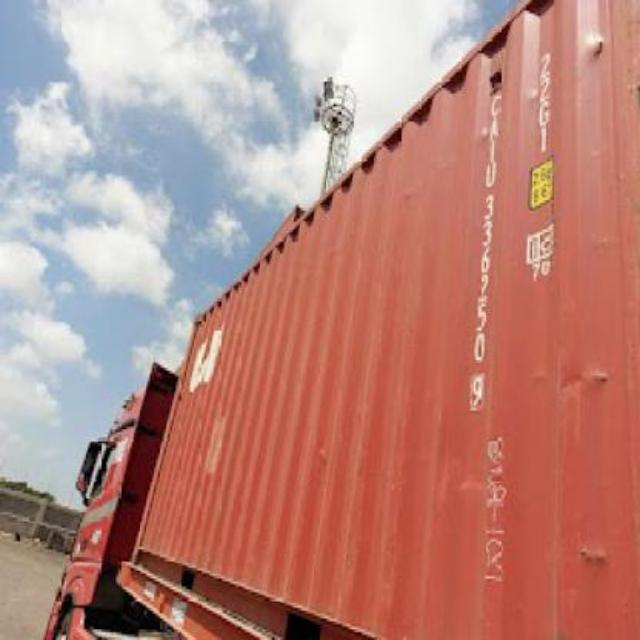0: (472, 330, 486, 360)
2: (478, 275, 492, 299)
3: (480, 218, 498, 246), (482, 192, 498, 218)
5: (474, 299, 490, 331)
6: (480, 244, 492, 272)
9: (471, 373, 484, 405)
A: (488, 112, 502, 138)
C: (488, 94, 504, 115)
I: (486, 139, 498, 157)
U: (484, 157, 496, 189)
